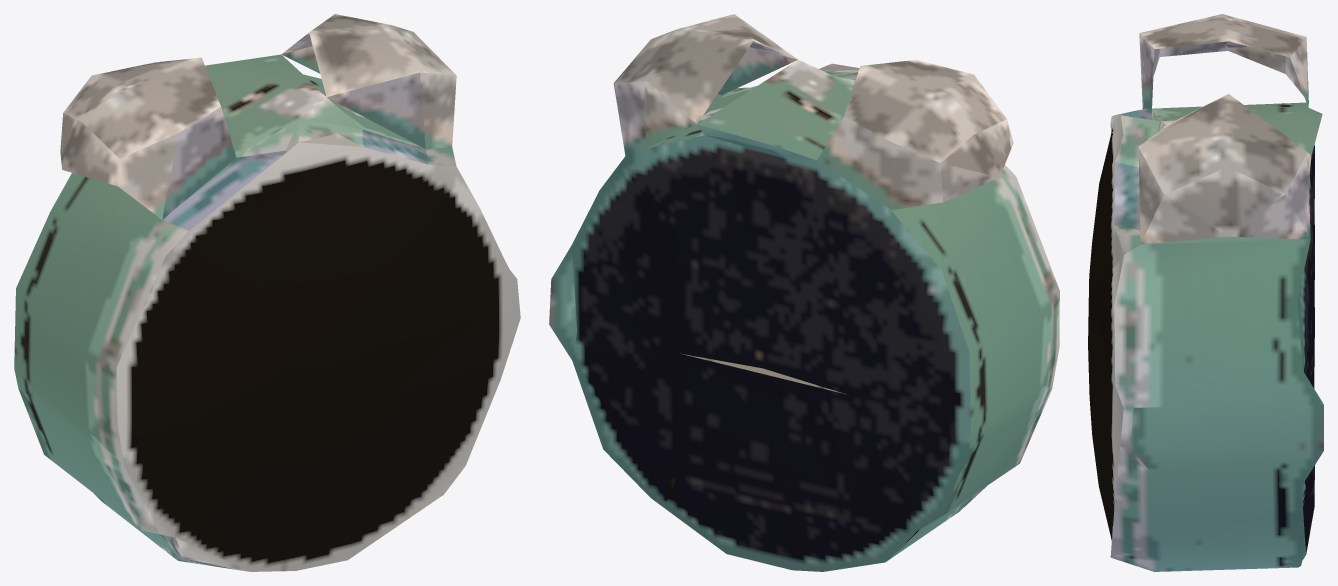
Rendered from alarm_clock_01.glb.
The picture shows the model from 3 angles, left to right: view 1: azimuth 30°, elevation 25°; view 2: azimuth 150°, elevation 25°; view 3: azimuth 270°, elevation 25°; orthographic projection.
Visible parts, largest first — view 1: mesh; view 2: mesh; view 3: mesh.
Part boxes in pixels (left/top/right/bottom): mesh: left=14, top=14, right=520, bottom=571; mesh: left=549, top=14, right=1059, bottom=571; mesh: left=1088, top=14, right=1323, bottom=571.
Bounding box in the file's own units: 0.155 × 0.1742 × 0.0779.
1 material, 1 textured.
